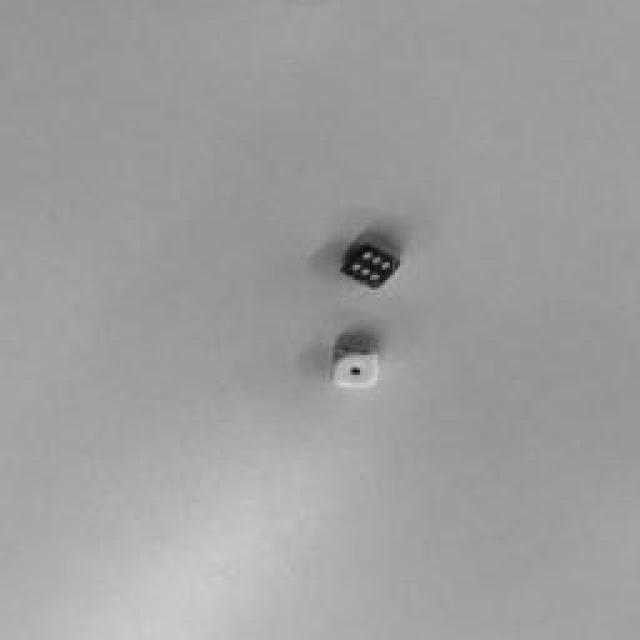dice_1: (332, 355, 378, 387)
dice_6: (342, 245, 396, 287)
